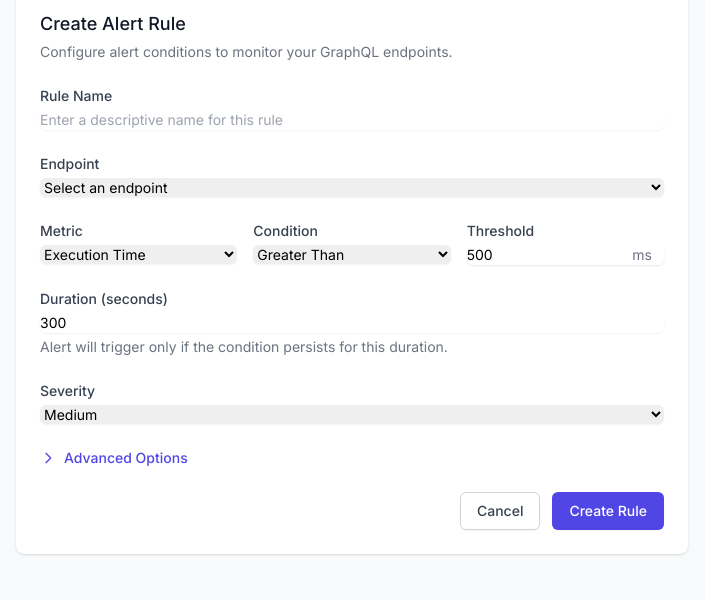
Test: AlertRuleForm › Form Validation › should validate duration value
The image size is (705, 600).
Type "Test Rule" into the field with test id "rule-name-input".
click(352, 120); type("Test Rule")  # box [40, 110, 664, 130]
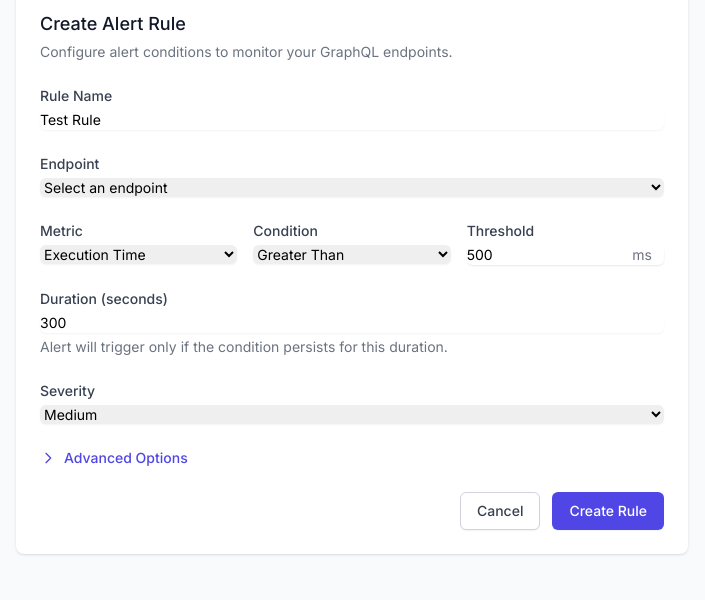
Select "Endpoint 1" in the dropdown with test id "endpoint-select" at (352, 188), box [40, 178, 664, 197]
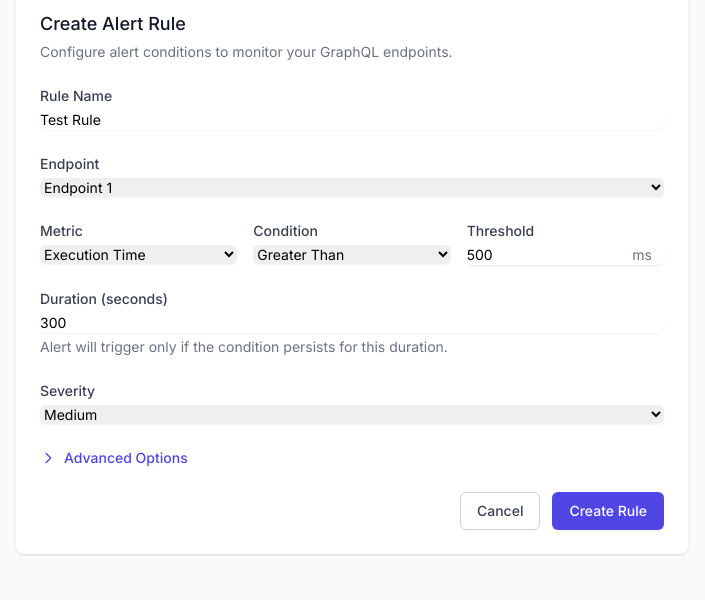
Type "0" into the number field with test id "duration-input".
click(352, 323); type("0")  # box [40, 313, 664, 333]
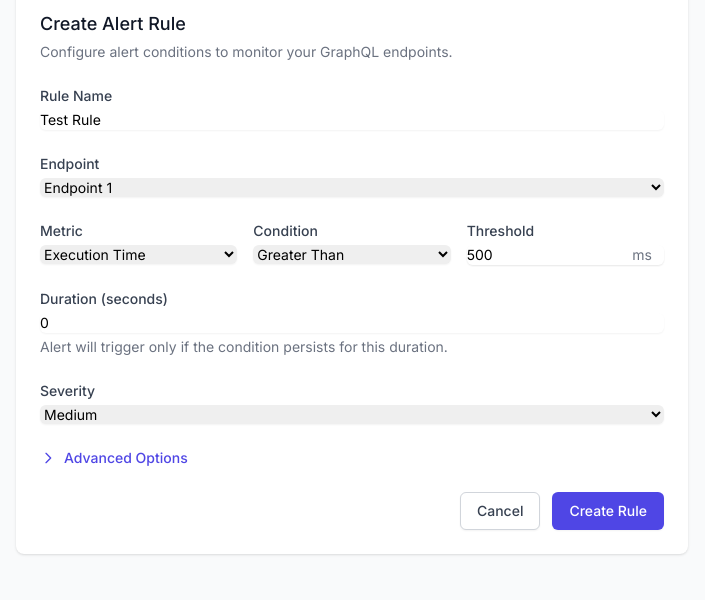
# Submit the form directly
Submit the form
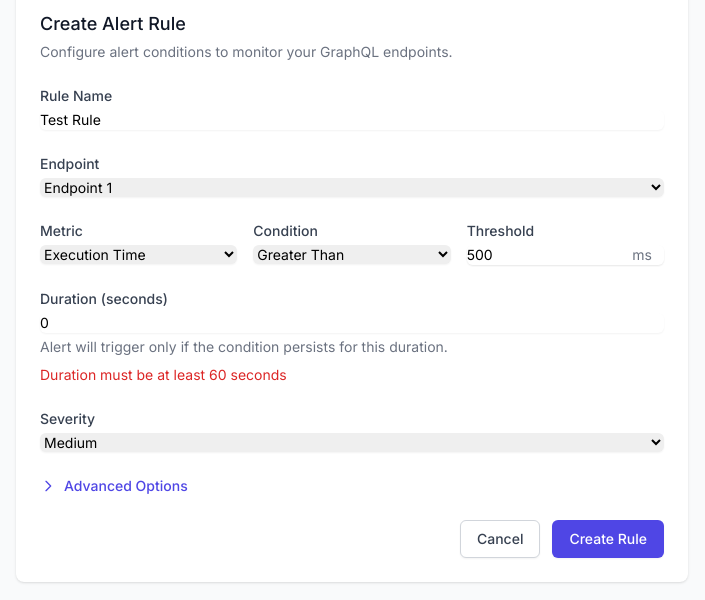
Expected: the text "Duration must be at least 60 seconds" is shown, [40, 366, 287, 383]
